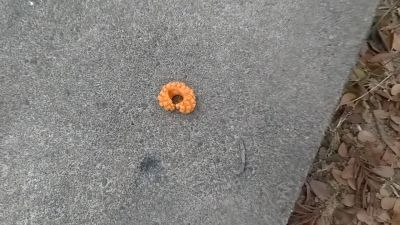eggs: (157, 81, 198, 114)
